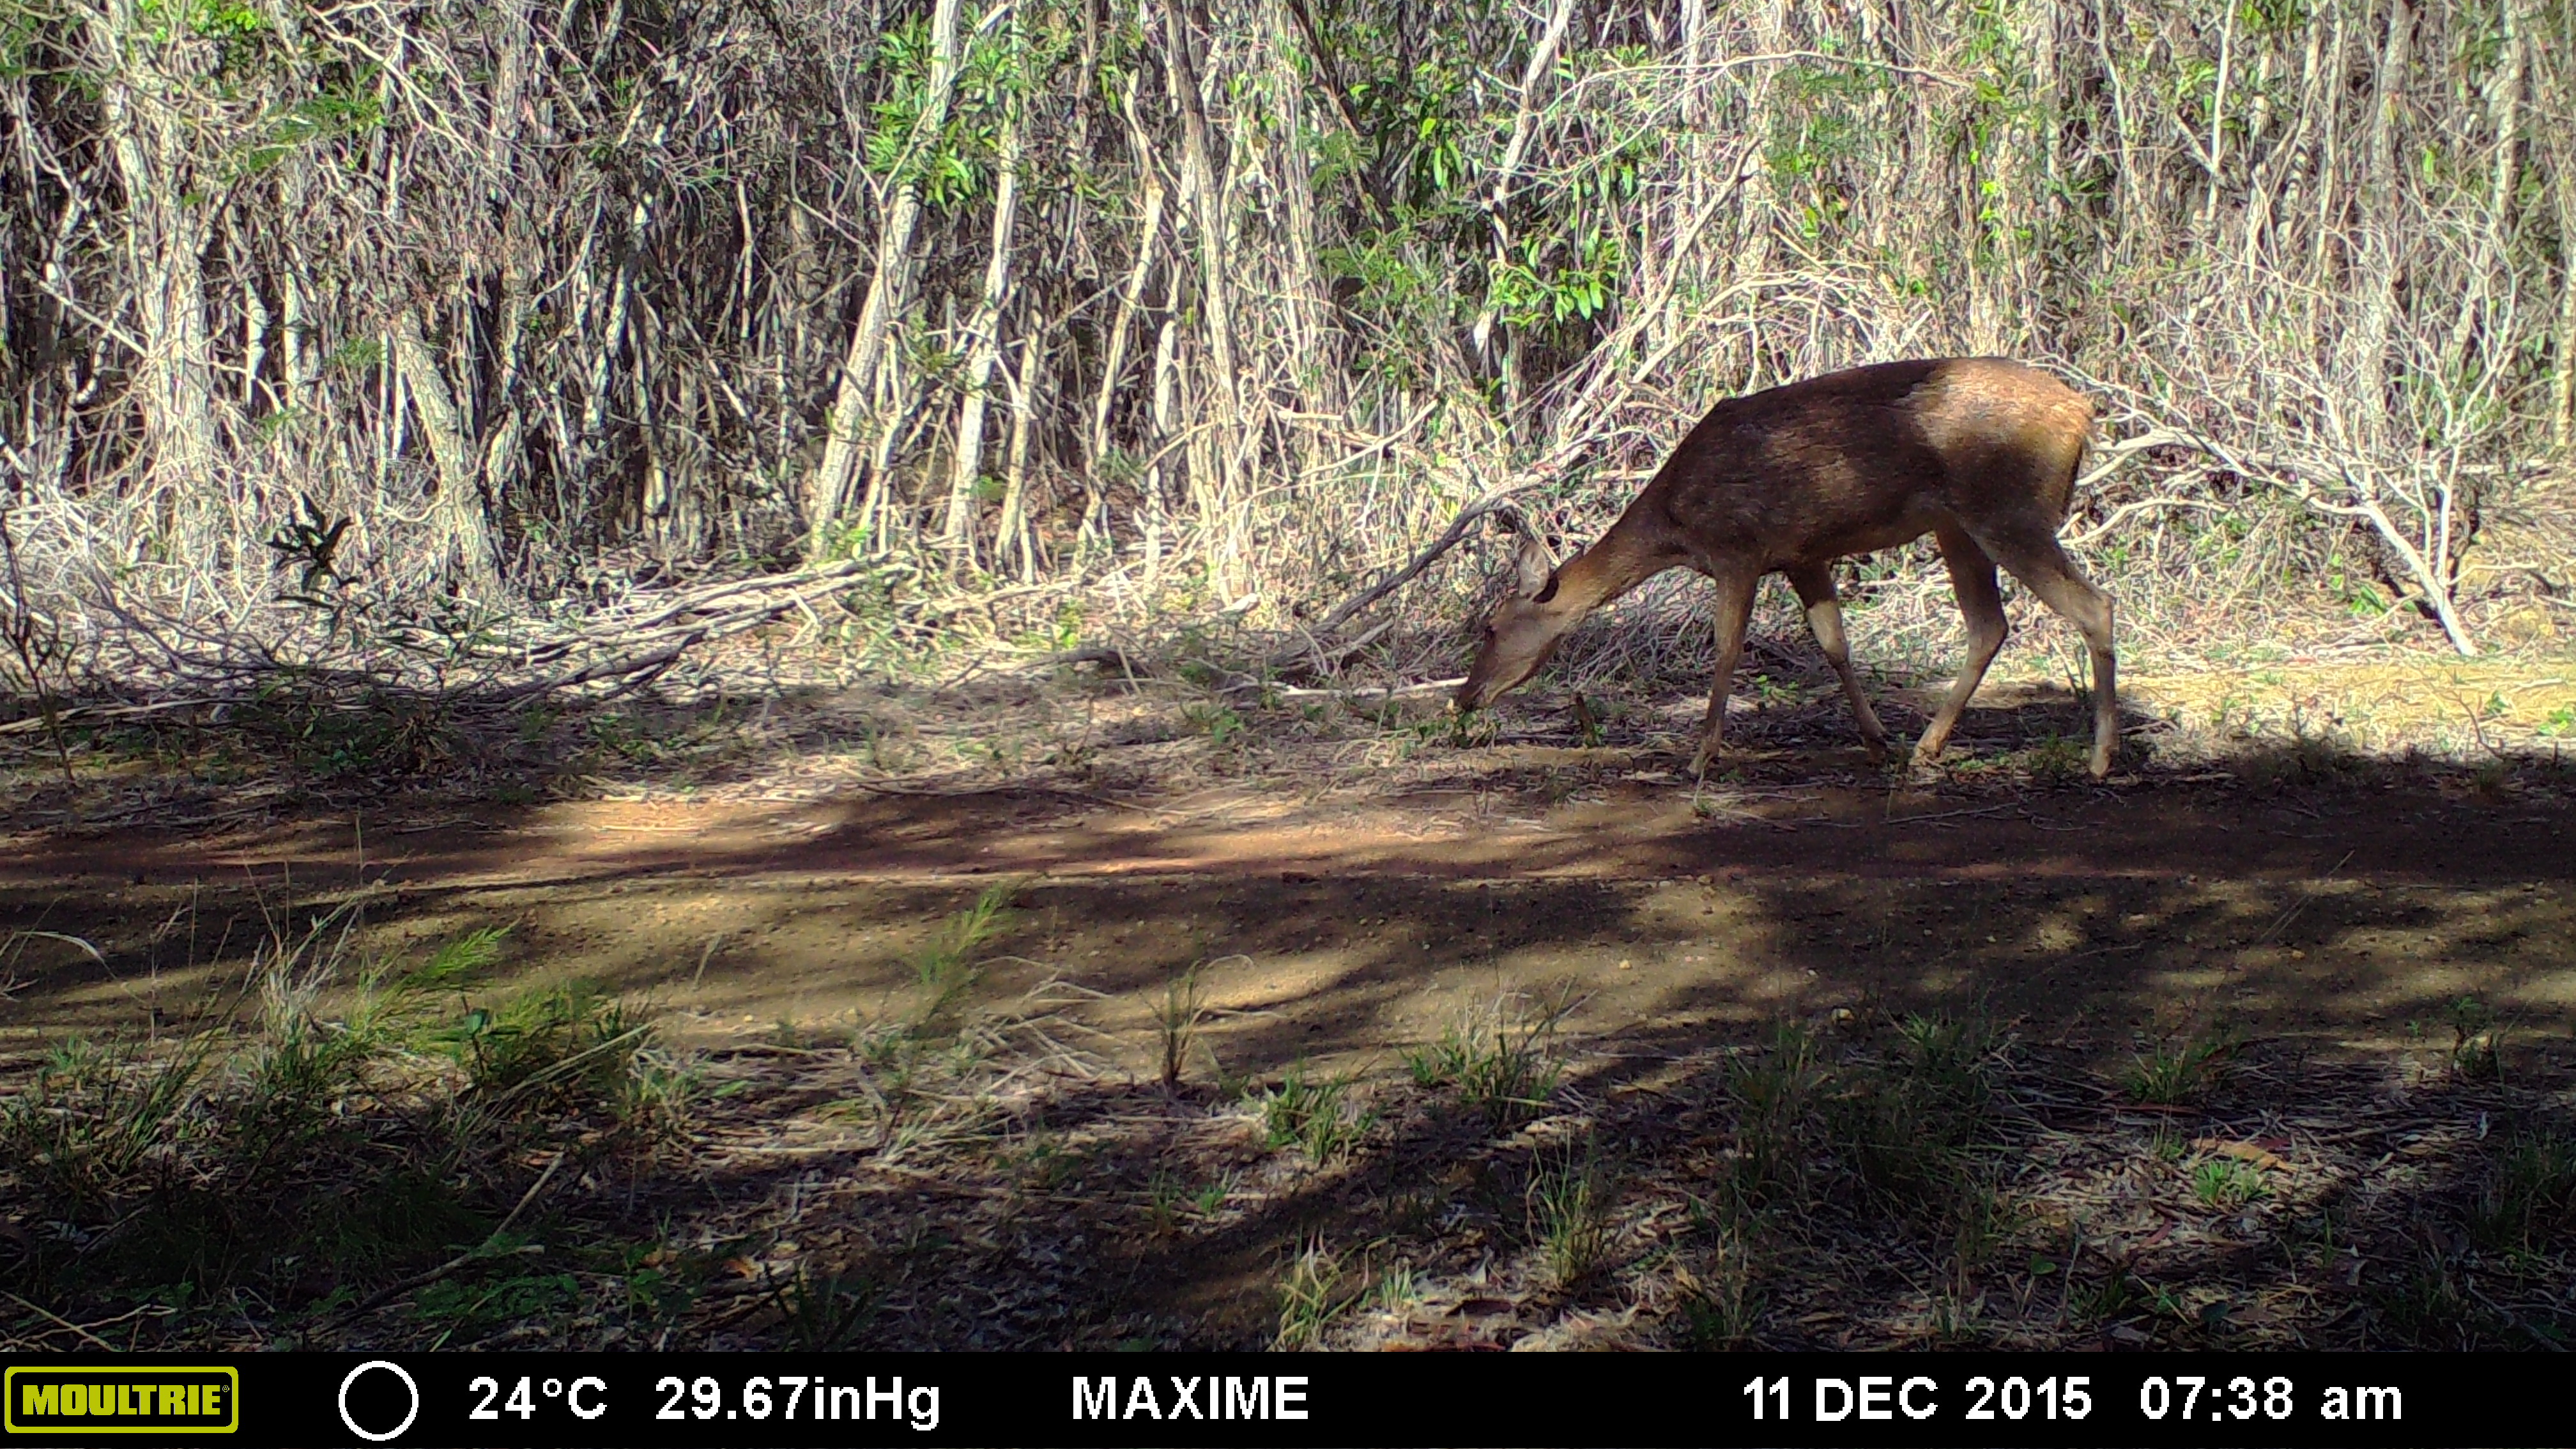Deer: (1433, 352, 2139, 798)
